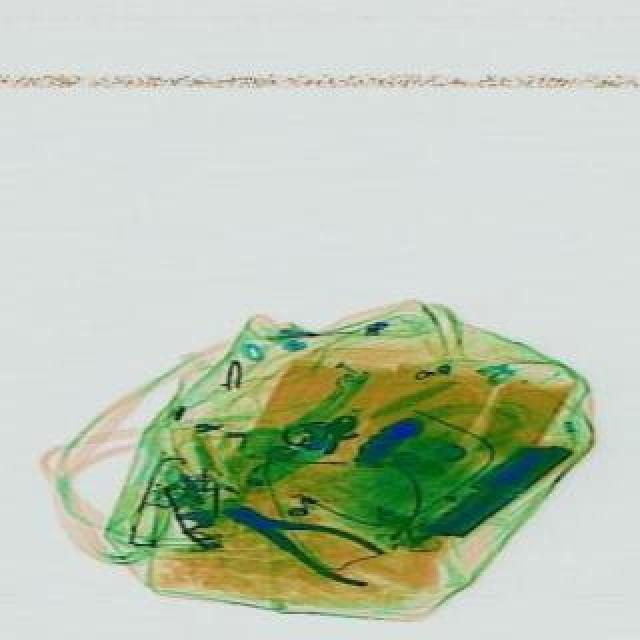wrench: (218, 484, 382, 592)
